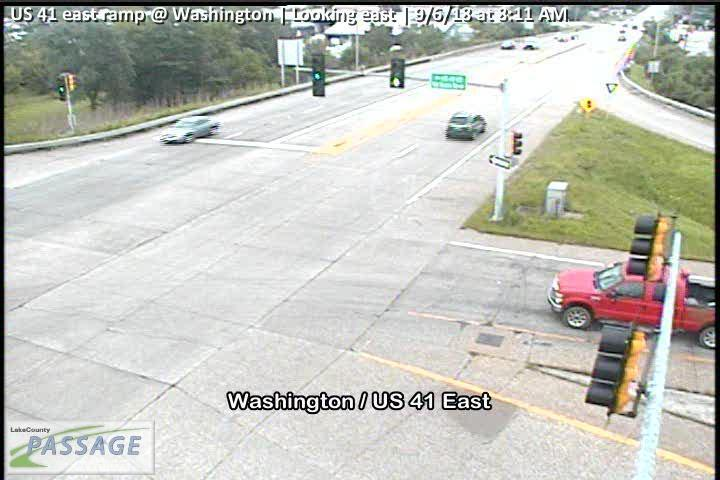Sedan: (157, 113, 220, 146), (442, 110, 487, 140)
Truck: (542, 254, 720, 348)
